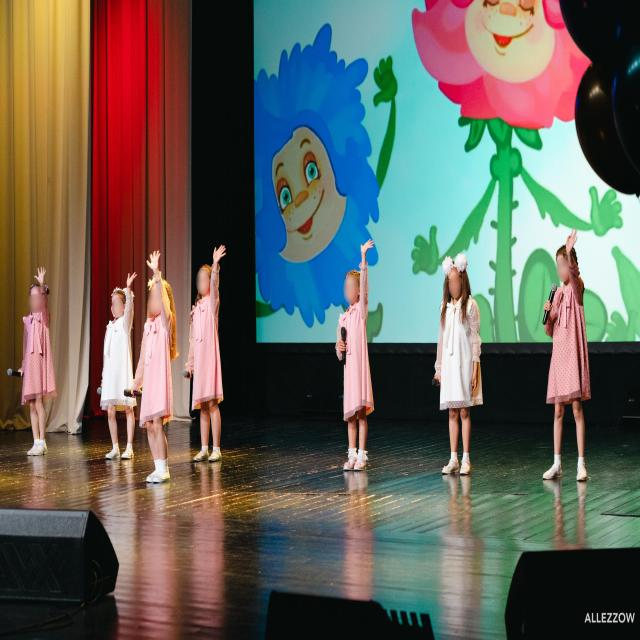Person: (526, 213, 596, 502), (332, 237, 383, 482), (430, 250, 482, 486), (13, 255, 62, 470), (188, 240, 230, 475), (92, 271, 140, 470), (142, 240, 179, 493)
